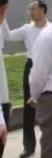boots: (19, 148, 34, 158)
hard-hat: (1, 0, 1, 0)
